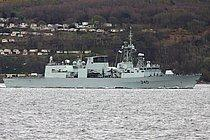MIL_Ship: (2, 26, 205, 90)
